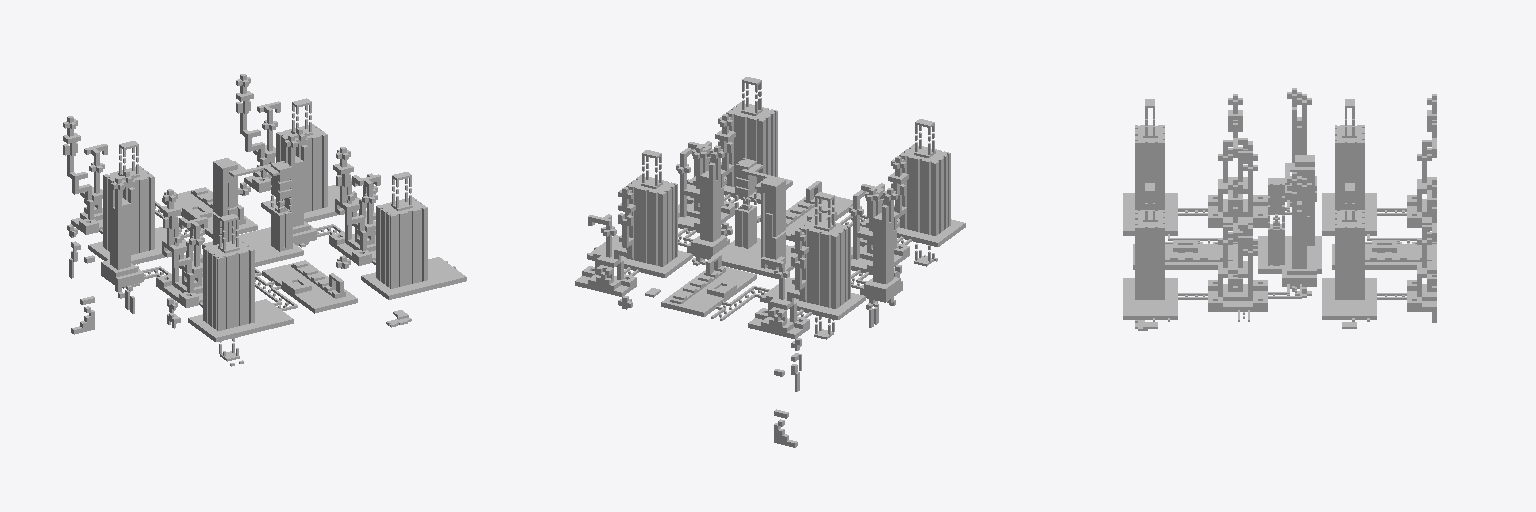
Rendered from neoncity.obj.
3 renders of one model, left to right at view 1: azimuth 30°, elevation 25°; view 2: azimuth 150°, elevation 25°; view 3: azimuth 270°, elevation 25°, orthographic.
Visible parts, largest first — view 1: tech village; view 2: tech village; view 3: tech village.
Boxes of the visible parts, x1=… form: tech village: x1=63, y1=74, x2=466, y2=366; tech village: x1=575, y1=77, x2=965, y2=447; tech village: x1=1123, y1=88, x2=1436, y2=330.
Size of the model in its own units: 126 by 96 by 126.